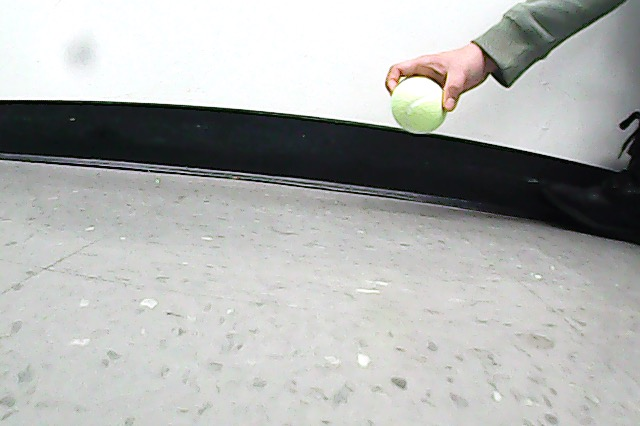ball: (389, 74, 449, 137)
